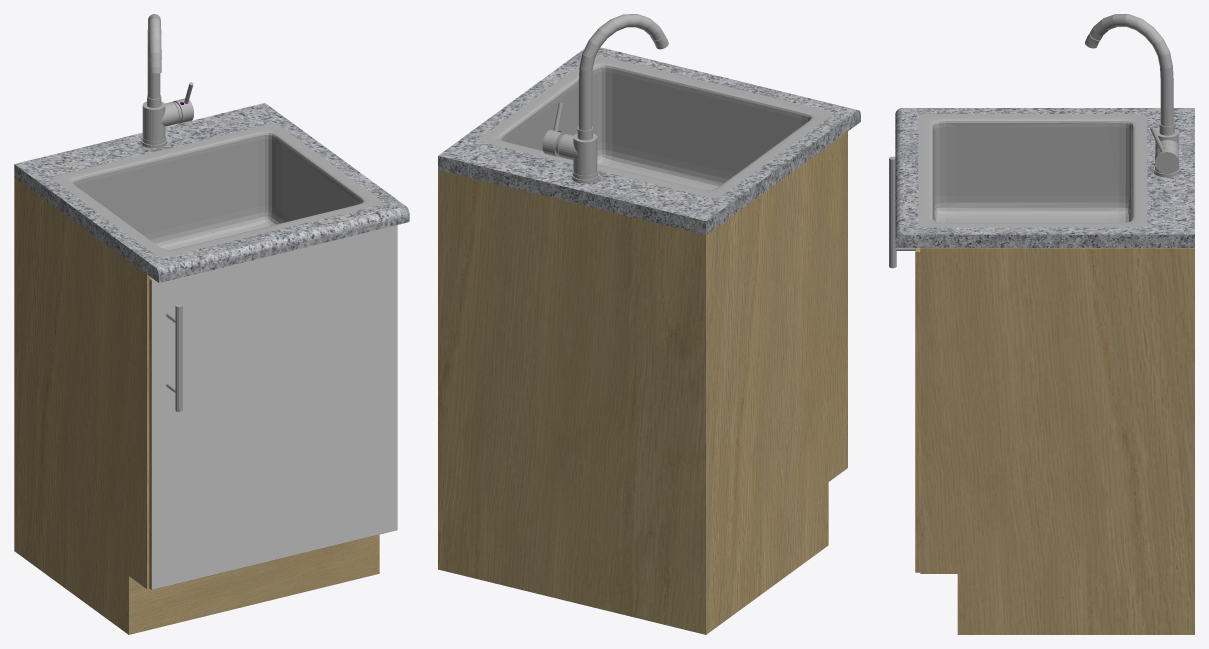
Rendered from sinkCabinet.obj.
The picture shows the model from 3 angles, left to right: view 1: azimuth 30°, elevation 25°; view 2: azimuth 150°, elevation 25°; view 3: azimuth 270°, elevation 25°; orthographic projection. The views are drawn at different scales.
Visible parts, largest first — view 1: GC_100L.003_Cube.002, Cube.002_Cube.003, Cylinder.001, sweethome3d_opening_on_hinge_1_Cylinder; view 2: GC_100L.003_Cube.002, Cube.002_Cube.003, sweethome3d_opening_on_hinge_1_Cylinder, Cylinder.001; view 3: GC_100L.003_Cube.002, Cube.002_Cube.003, sweethome3d_opening_on_hinge_1_Cylinder, sweethome3d_opening_on_hinge_2_Cylinder, Cylinder.001.
Part boxes in pixels (x1=…): GC_100L.003_Cube.002: x1=14, y1=103, x2=409, y2=634; Cube.002_Cube.003: x1=53, y1=123, x2=382, y2=257; Cylinder.001: x1=141, y1=95, x2=181, y2=148; sweethome3d_opening_on_hinge_1_Cylinder: x1=147, y1=14, x2=161, y2=98; GC_100L.003_Cube.002: x1=438, y1=47, x2=860, y2=634; Cube.002_Cube.003: x1=479, y1=55, x2=832, y2=198; sweethome3d_opening_on_hinge_1_Cylinder: x1=578, y1=14, x2=668, y2=130; Cylinder.001: x1=555, y1=126, x2=598, y2=183; GC_100L.003_Cube.002: x1=889, y1=108, x2=1194, y2=634; Cube.002_Cube.003: x1=918, y1=114, x2=1147, y2=227; sweethome3d_opening_on_hinge_1_Cylinder: x1=1085, y1=14, x2=1173, y2=126; sweethome3d_opening_on_hinge_2_Cylinder: x1=1149, y1=126, x2=1178, y2=173; Cylinder.001: x1=1153, y1=122, x2=1180, y2=177.
Bounding box in the file's own units: 60 × 121 × 61.22.
